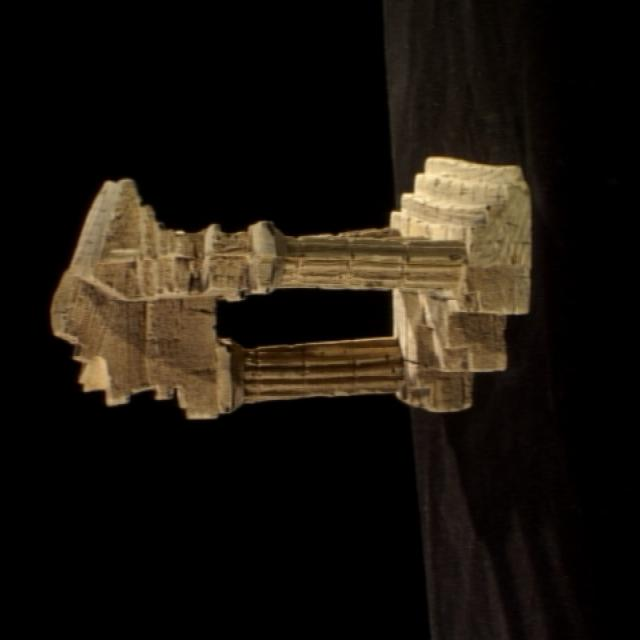Instance-Segmentation: (52, 157, 530, 417)
